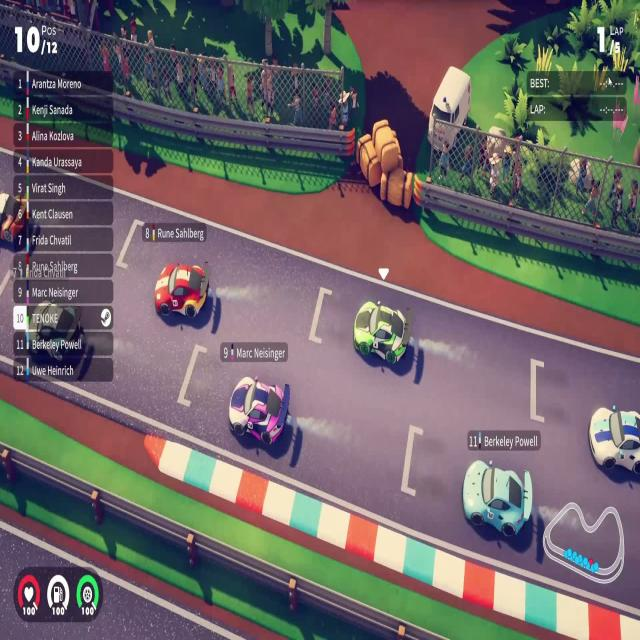car: (461, 458, 533, 538), (228, 374, 290, 447), (352, 298, 413, 366), (154, 261, 209, 319)
